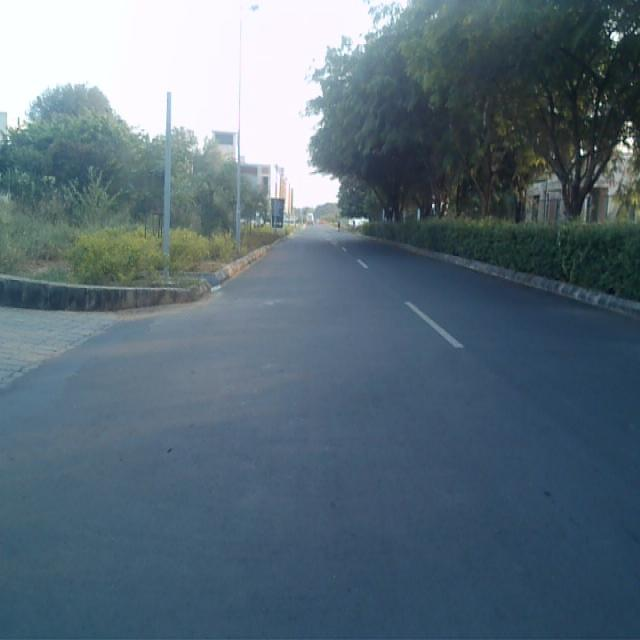lane: (0, 229, 640, 640)
